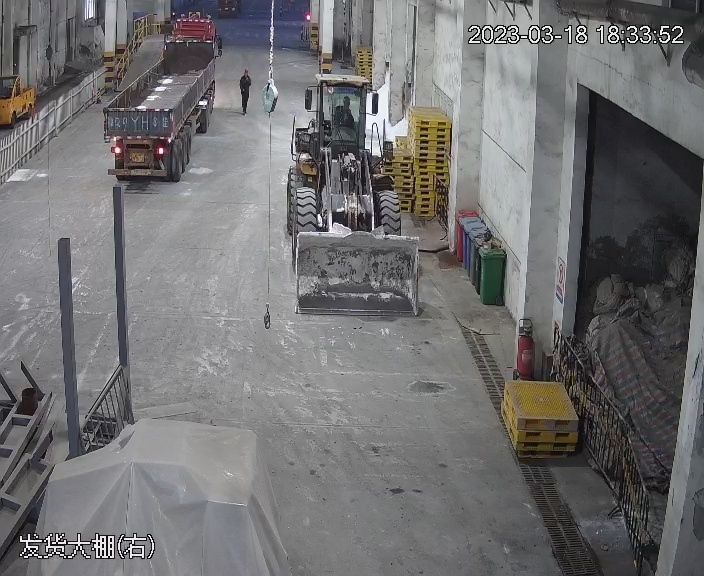head: (240, 66, 251, 81)
helmet: (242, 67, 249, 73)
people: (238, 66, 250, 114)
truck: (97, 9, 221, 184)
